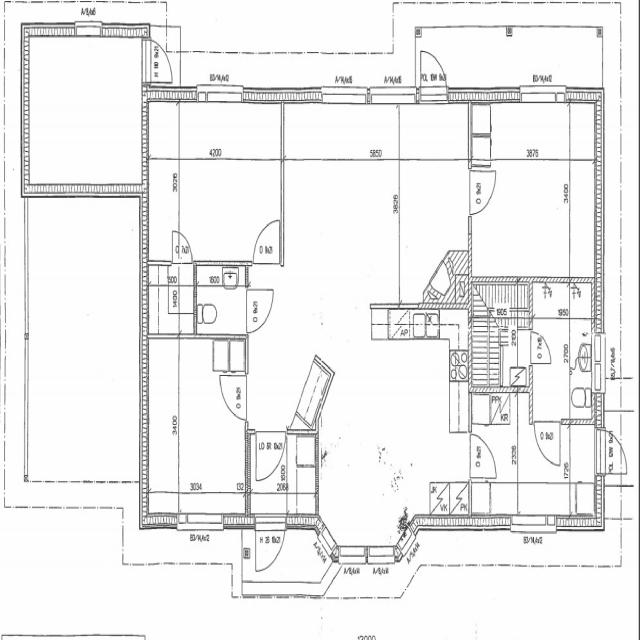door: (253, 428, 288, 487), (253, 512, 287, 572), (533, 416, 565, 471), (596, 428, 629, 478), (250, 214, 282, 265), (218, 369, 248, 421), (418, 45, 448, 96), (468, 430, 498, 481), (245, 285, 276, 334), (468, 166, 498, 216), (146, 34, 176, 84), (529, 329, 554, 366), (174, 230, 194, 264)
window: (320, 82, 370, 109), (177, 509, 228, 532), (197, 83, 244, 106), (511, 512, 557, 534), (518, 84, 563, 106), (592, 327, 606, 397), (319, 526, 337, 567), (336, 544, 369, 566), (365, 546, 397, 566), (74, 17, 102, 38), (395, 537, 413, 564)
zone: (320, 313, 470, 543), (471, 94, 589, 283), (283, 153, 400, 294), (175, 335, 247, 520), (178, 140, 282, 262), (397, 154, 469, 301), (176, 97, 283, 166), (531, 307, 595, 419), (146, 109, 179, 262), (195, 264, 248, 338), (145, 262, 196, 337), (288, 432, 319, 516), (533, 278, 572, 318), (469, 431, 497, 480)
